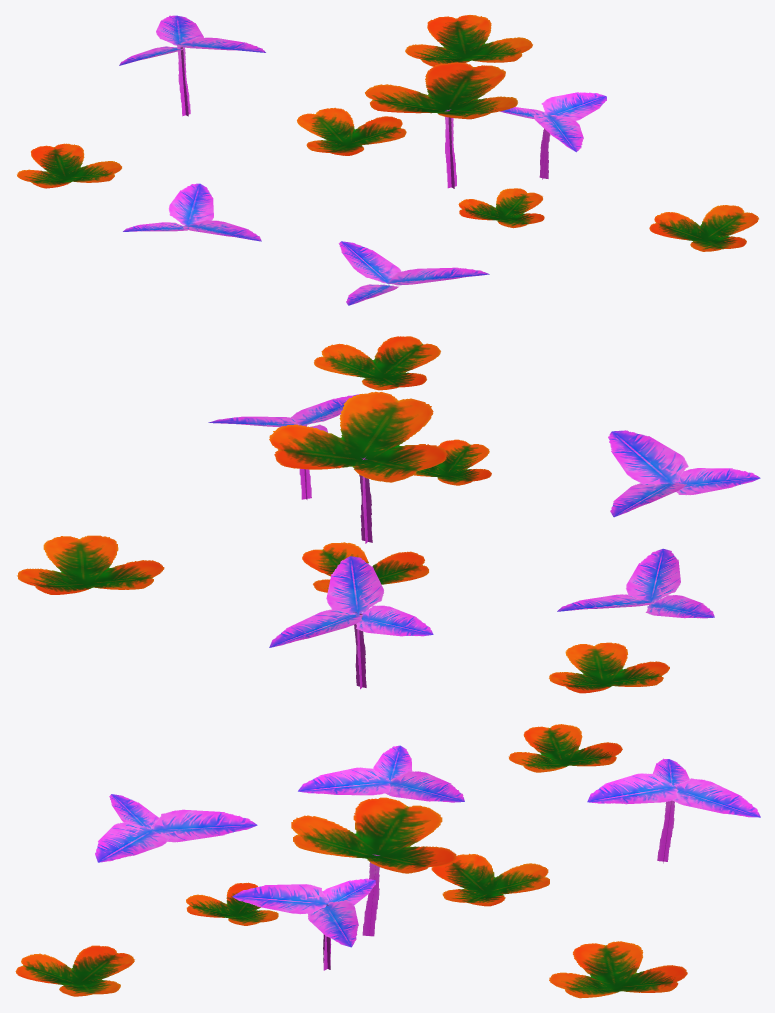
The model's file is SM_Clover_clump_1_.fbx.
3 renders of one model, top to bottom at view 1: azimuth 30°, elevation 25°; view 2: azimuth 150°, elevation 25°; view 3: azimuth 270°, elevation 25°, orthographic. The views are drawn at different scales.
Visible parts, largest first — view 1: SM_Clover_clump_1__LOD0; view 2: SM_Clover_clump_1__LOD0; view 3: SM_Clover_clump_1__LOD0.
Part boxes in pixels (x1,y1,x2,y2): SM_Clover_clump_1__LOD0: [17, 15, 758, 305]; SM_Clover_clump_1__LOD0: [17, 336, 760, 693]; SM_Clover_clump_1__LOD0: [15, 724, 760, 998].
Size of the model in its own units: 43.82 by 49.61 by 8.04.
